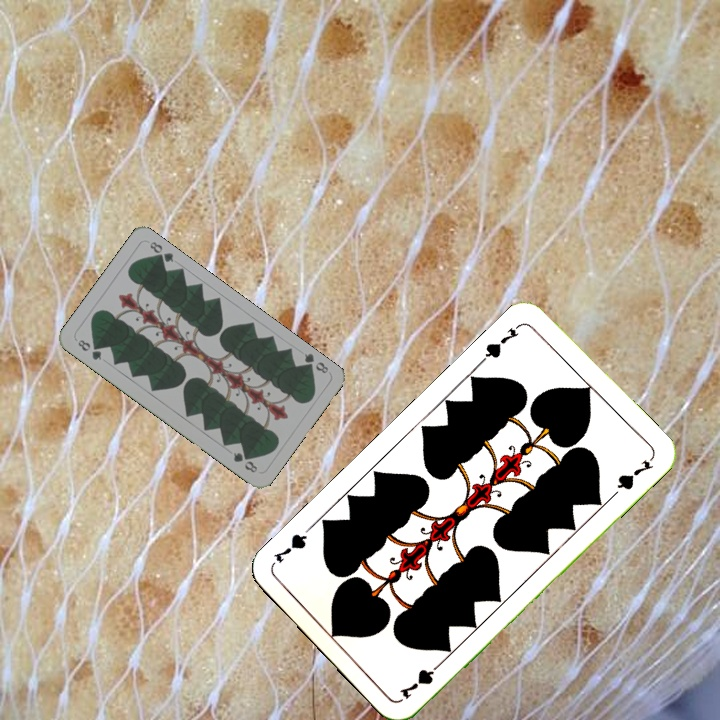G7: (396, 656, 447, 701), (477, 319, 524, 365)
G8: (73, 335, 104, 363), (299, 349, 331, 376)
